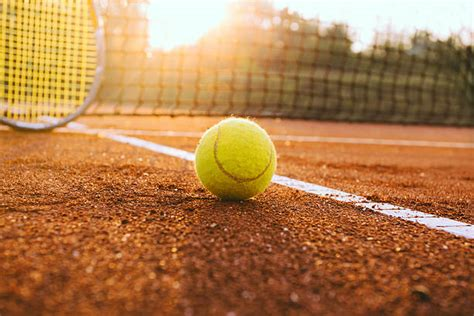tennis_ball: (194, 117, 276, 201)
